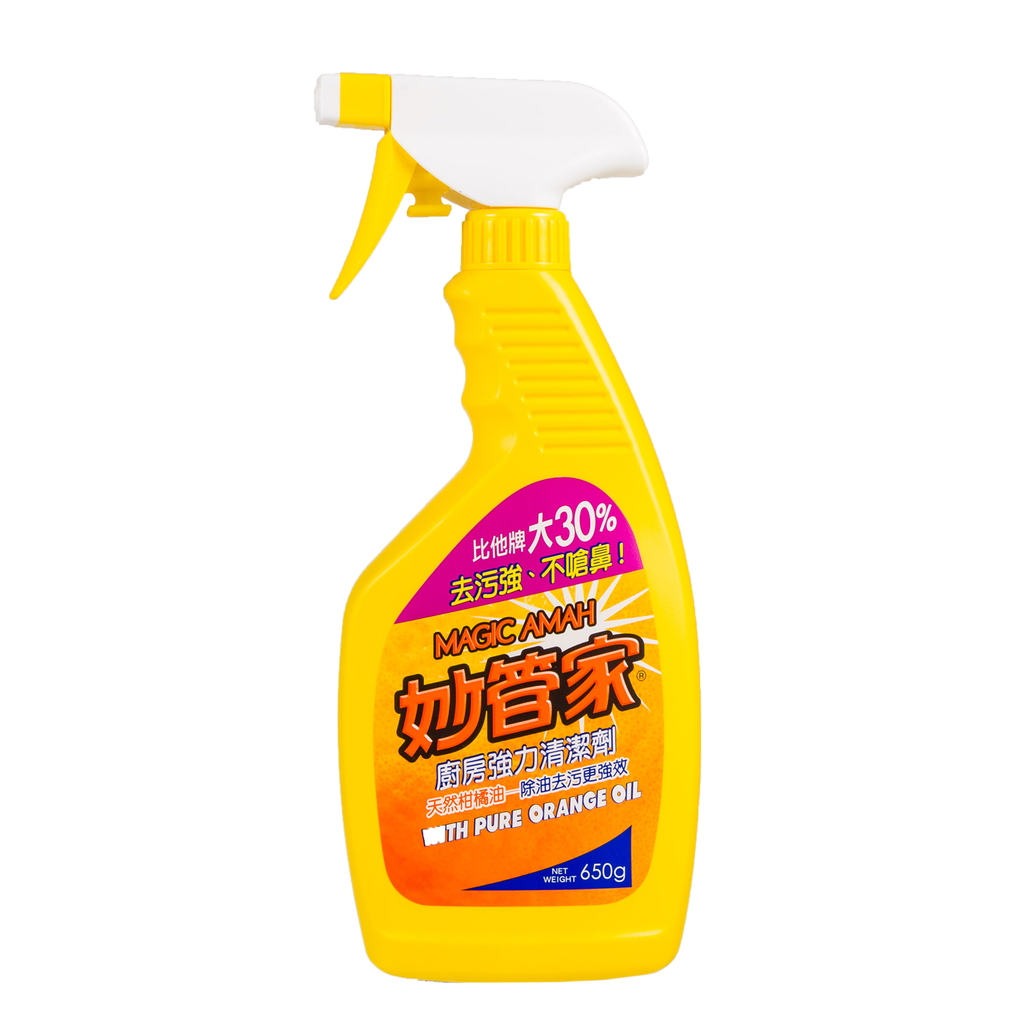cleaner: (304, 67, 718, 983)
